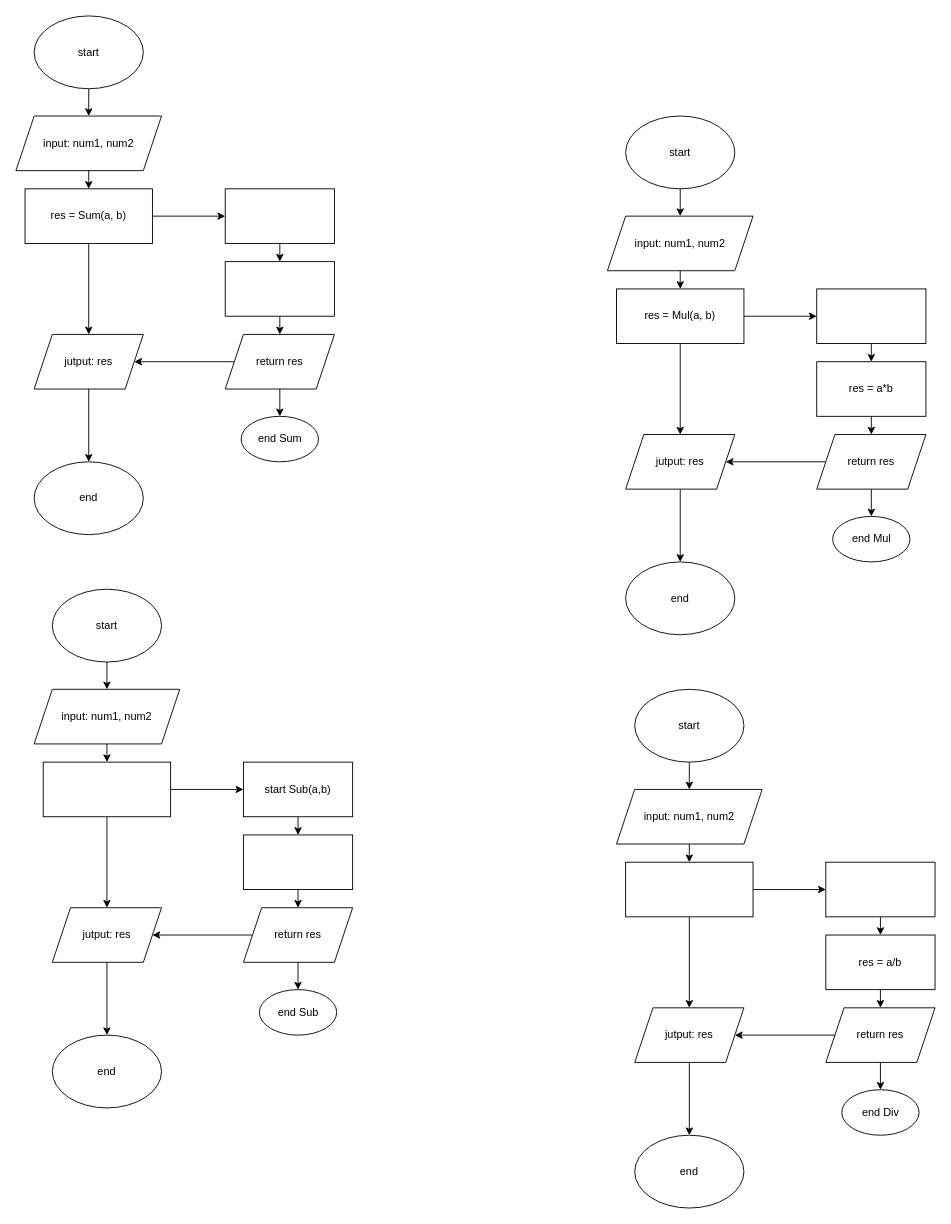
Image size: 951x1224. Some labels were removed from this diagram. Each missing label, with the centre of its shape:
"res = a+b" goes at (x=279, y=288).
"res = a-b" goes at (x=298, y=862).
"res = Div(a, b)" goes at (x=689, y=889).
"res = Sub(a, b)" goes at (x=106, y=789).
"start Div(a,b)" goes at (x=880, y=889).
"start Mul(a,b)" goes at (x=871, y=316).
"start Sum(a,b)" goes at (x=279, y=215).
